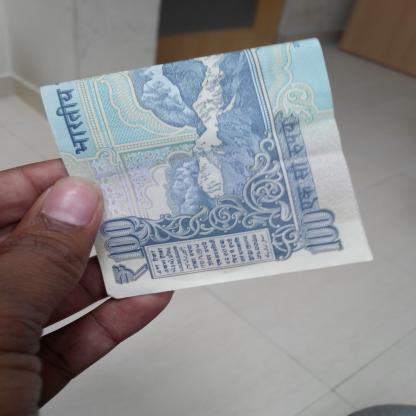Old100Back: (40, 36, 376, 300)
